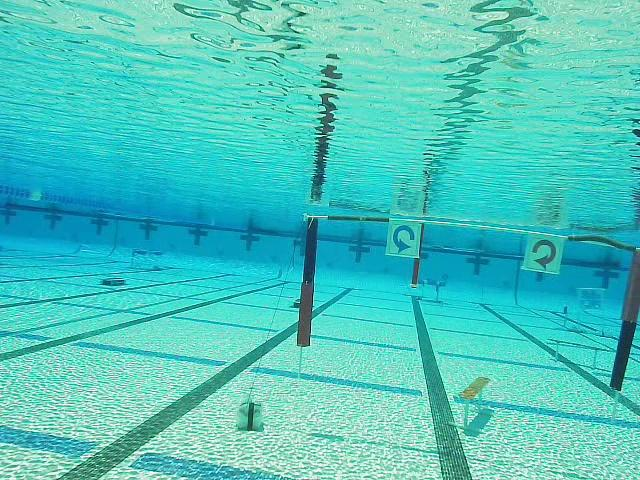dropper: (100, 275, 126, 287)
gate_blue: (386, 221, 423, 258)
gate_leg_l: (296, 214, 319, 347)
gate_red: (523, 235, 564, 274)
table: (416, 275, 450, 306), (130, 246, 164, 272)
torpedo: (578, 287, 604, 312)
